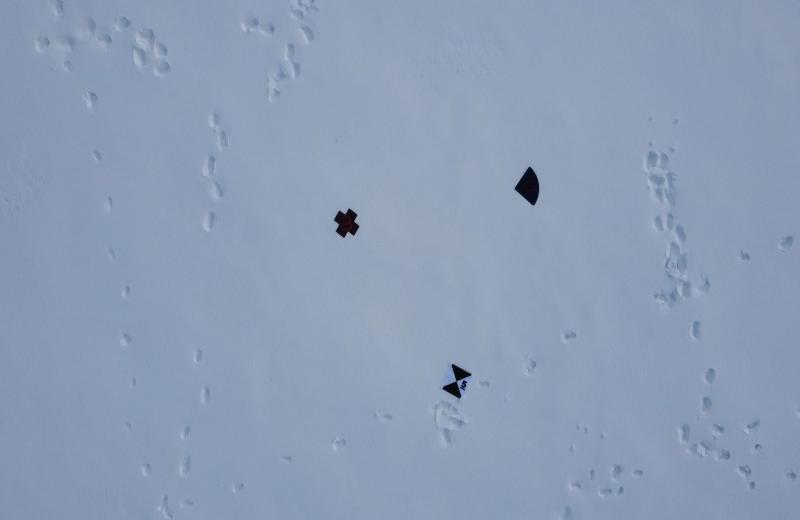Cross: (332, 205, 362, 243)
Quarter Circle: (510, 162, 544, 212)
